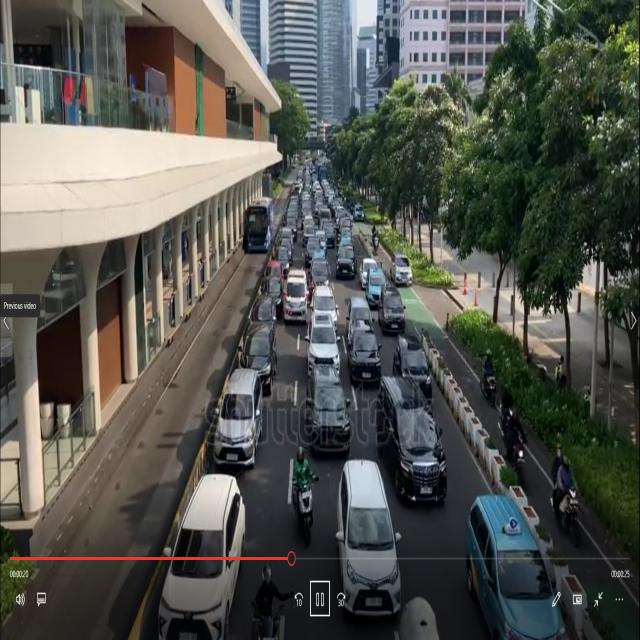Ambulance: (282, 266, 310, 328)
